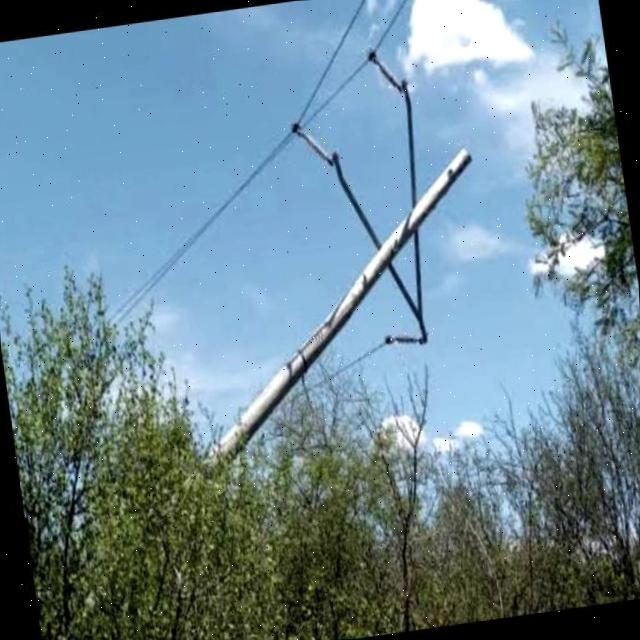Broken Pole: (56, 37, 470, 640)
